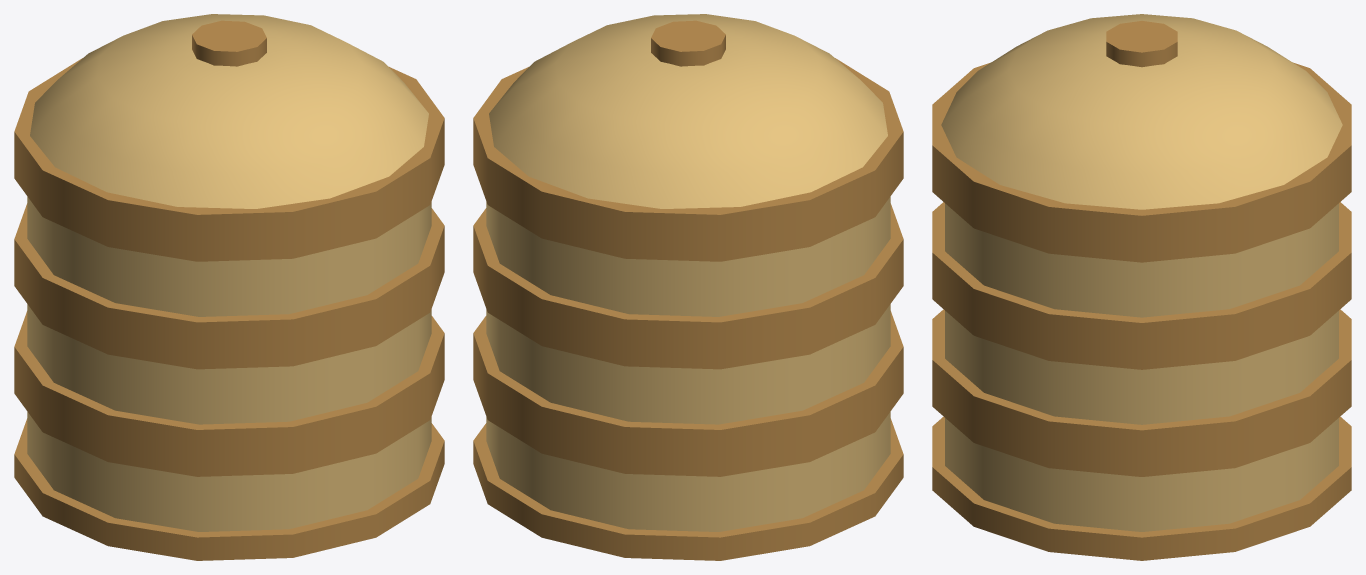
Rendered from steamer_stack.glb.
3 renders of one model, left to right at view 1: azimuth 30°, elevation 25°; view 2: azimuth 150°, elevation 25°; view 3: azimuth 270°, elevation 25°, orthographic.
Visible parts, largest first — view 1: steamer_stack; view 2: steamer_stack; view 3: steamer_stack.
Boxes of the visible parts, bbox=[...] form: steamer_stack: bbox=[14, 14, 444, 560]; steamer_stack: bbox=[473, 14, 903, 560]; steamer_stack: bbox=[932, 14, 1351, 560].
Size of the model in its own units: 0.4 by 0.4445 by 0.39.
